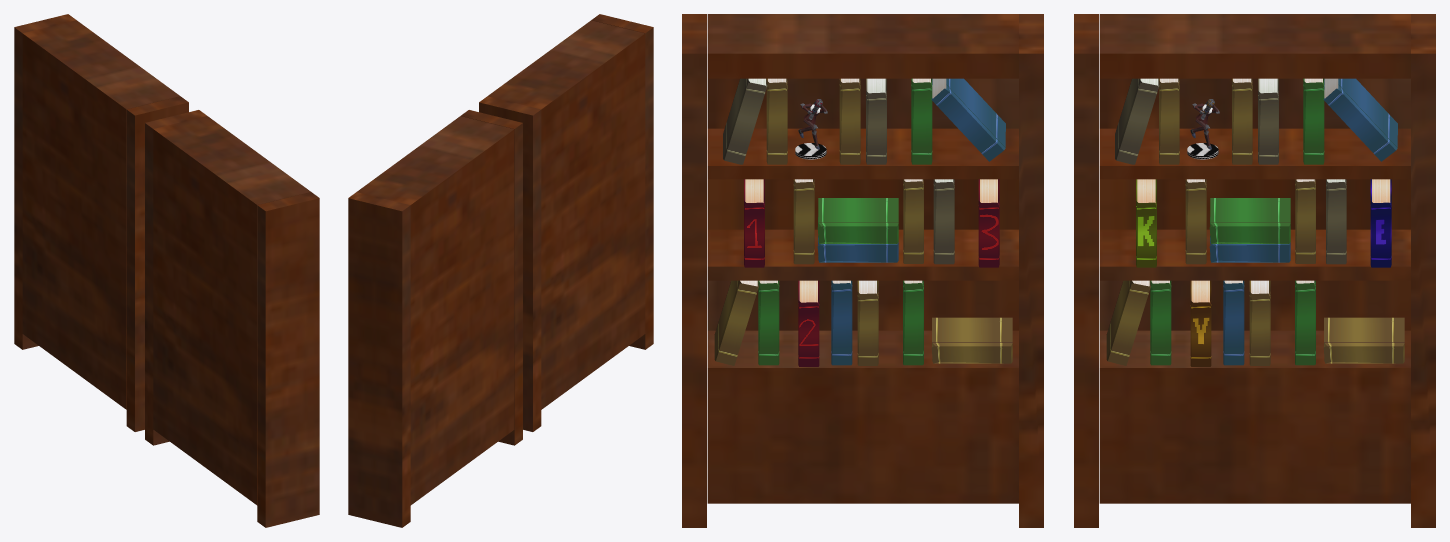
File: BookShelves.fbx
The picture shows the model from 3 angles, left to right: view 1: azimuth 30°, elevation 25°; view 2: azimuth 150°, elevation 25°; view 3: azimuth 270°, elevation 25°; orthographic projection. The views are drawn at different scales.
Visible parts, largest first — view 1: Cube.073, Cube.025; view 2: Cube.025, Cube.073; view 3: Cube.073, Cube.025, Cube.003, Cube.033, Cube.027, Cube.030, Cube.028, Cube.037.
Boxes of the visible parts, bbox=[...] form: Cube.073: bbox=[145, 110, 319, 527]; Cube.025: bbox=[14, 14, 188, 431]; Cube.025: bbox=[348, 110, 522, 527]; Cube.073: bbox=[479, 14, 653, 431]; Cube.073: bbox=[682, 14, 1043, 527]; Cube.025: bbox=[1074, 14, 1435, 527]; Cube.003: bbox=[978, 179, 999, 267]; Cube.033: bbox=[1370, 179, 1391, 267]; Cube.027: bbox=[798, 280, 819, 366]; Cube.030: bbox=[1190, 280, 1211, 366]; Cube.028: bbox=[1136, 179, 1156, 267]; Cube.037: bbox=[744, 179, 764, 267].
Bounding box in the file's own units: 307 × 1672 × 2409.
25 materials, 25 textured.
